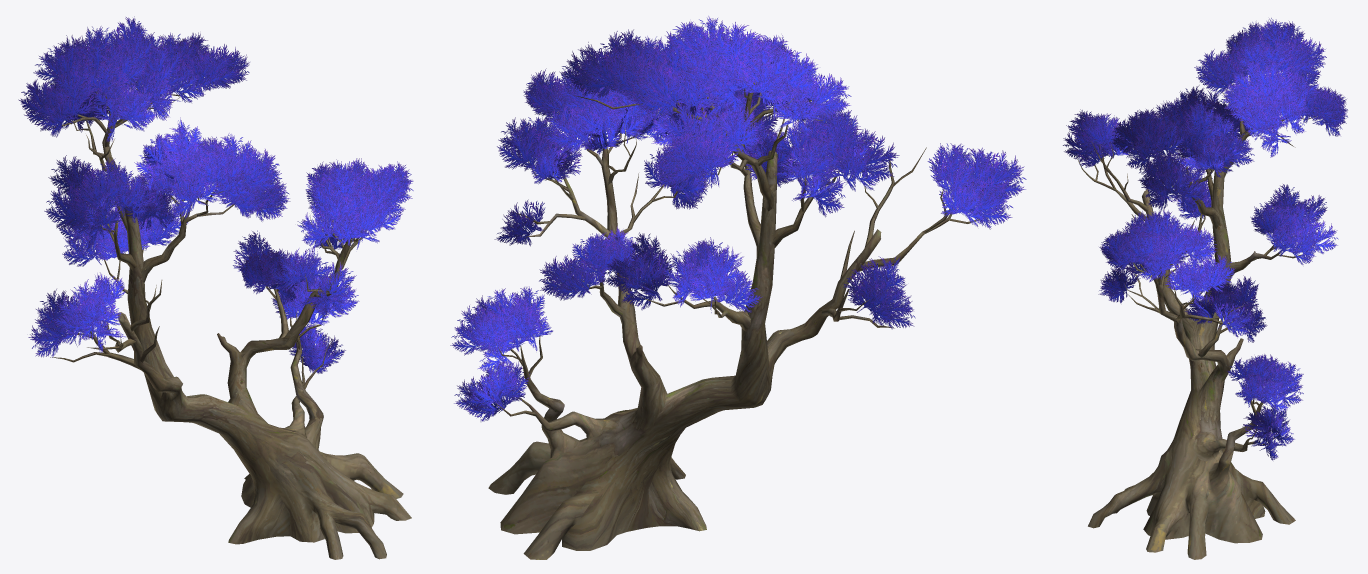
File: DqTreeHZD.fbx
3 renders of one model, left to right at view 1: azimuth 30°, elevation 25°; view 2: azimuth 150°, elevation 25°; view 3: azimuth 270°, elevation 25°, orthographic. The views are drawn at different scales.
Parts seen in each view (by area): view 1: Area_Dq_Tree_HZD_Ty_01_01_Leaf_Lod0, Area_Dq_Tree_HZD_Ty_01_01_Bark_Lod0; view 2: Area_Dq_Tree_HZD_Ty_01_01_Leaf_Lod0, Area_Dq_Tree_HZD_Ty_01_01_Bark_Lod0; view 3: Area_Dq_Tree_HZD_Ty_01_01_Leaf_Lod0, Area_Dq_Tree_HZD_Ty_01_01_Bark_Lod0.
Boxes of the visible parts, box(x1,y1,x2,y2) form: Area_Dq_Tree_HZD_Ty_01_01_Leaf_Lod0: box(18, 16, 413, 373); Area_Dq_Tree_HZD_Ty_01_01_Bark_Lod0: box(48, 84, 411, 559); Area_Dq_Tree_HZD_Ty_01_01_Leaf_Lod0: box(450, 16, 1026, 421); Area_Dq_Tree_HZD_Ty_01_01_Bark_Lod0: box(488, 77, 979, 559); Area_Dq_Tree_HZD_Ty_01_01_Leaf_Lod0: box(1063, 18, 1347, 460); Area_Dq_Tree_HZD_Ty_01_01_Bark_Lod0: box(1076, 76, 1317, 559).
Size of the model in its own units: 1548 by 1833 by 1129.
2 materials, 2 textured.
